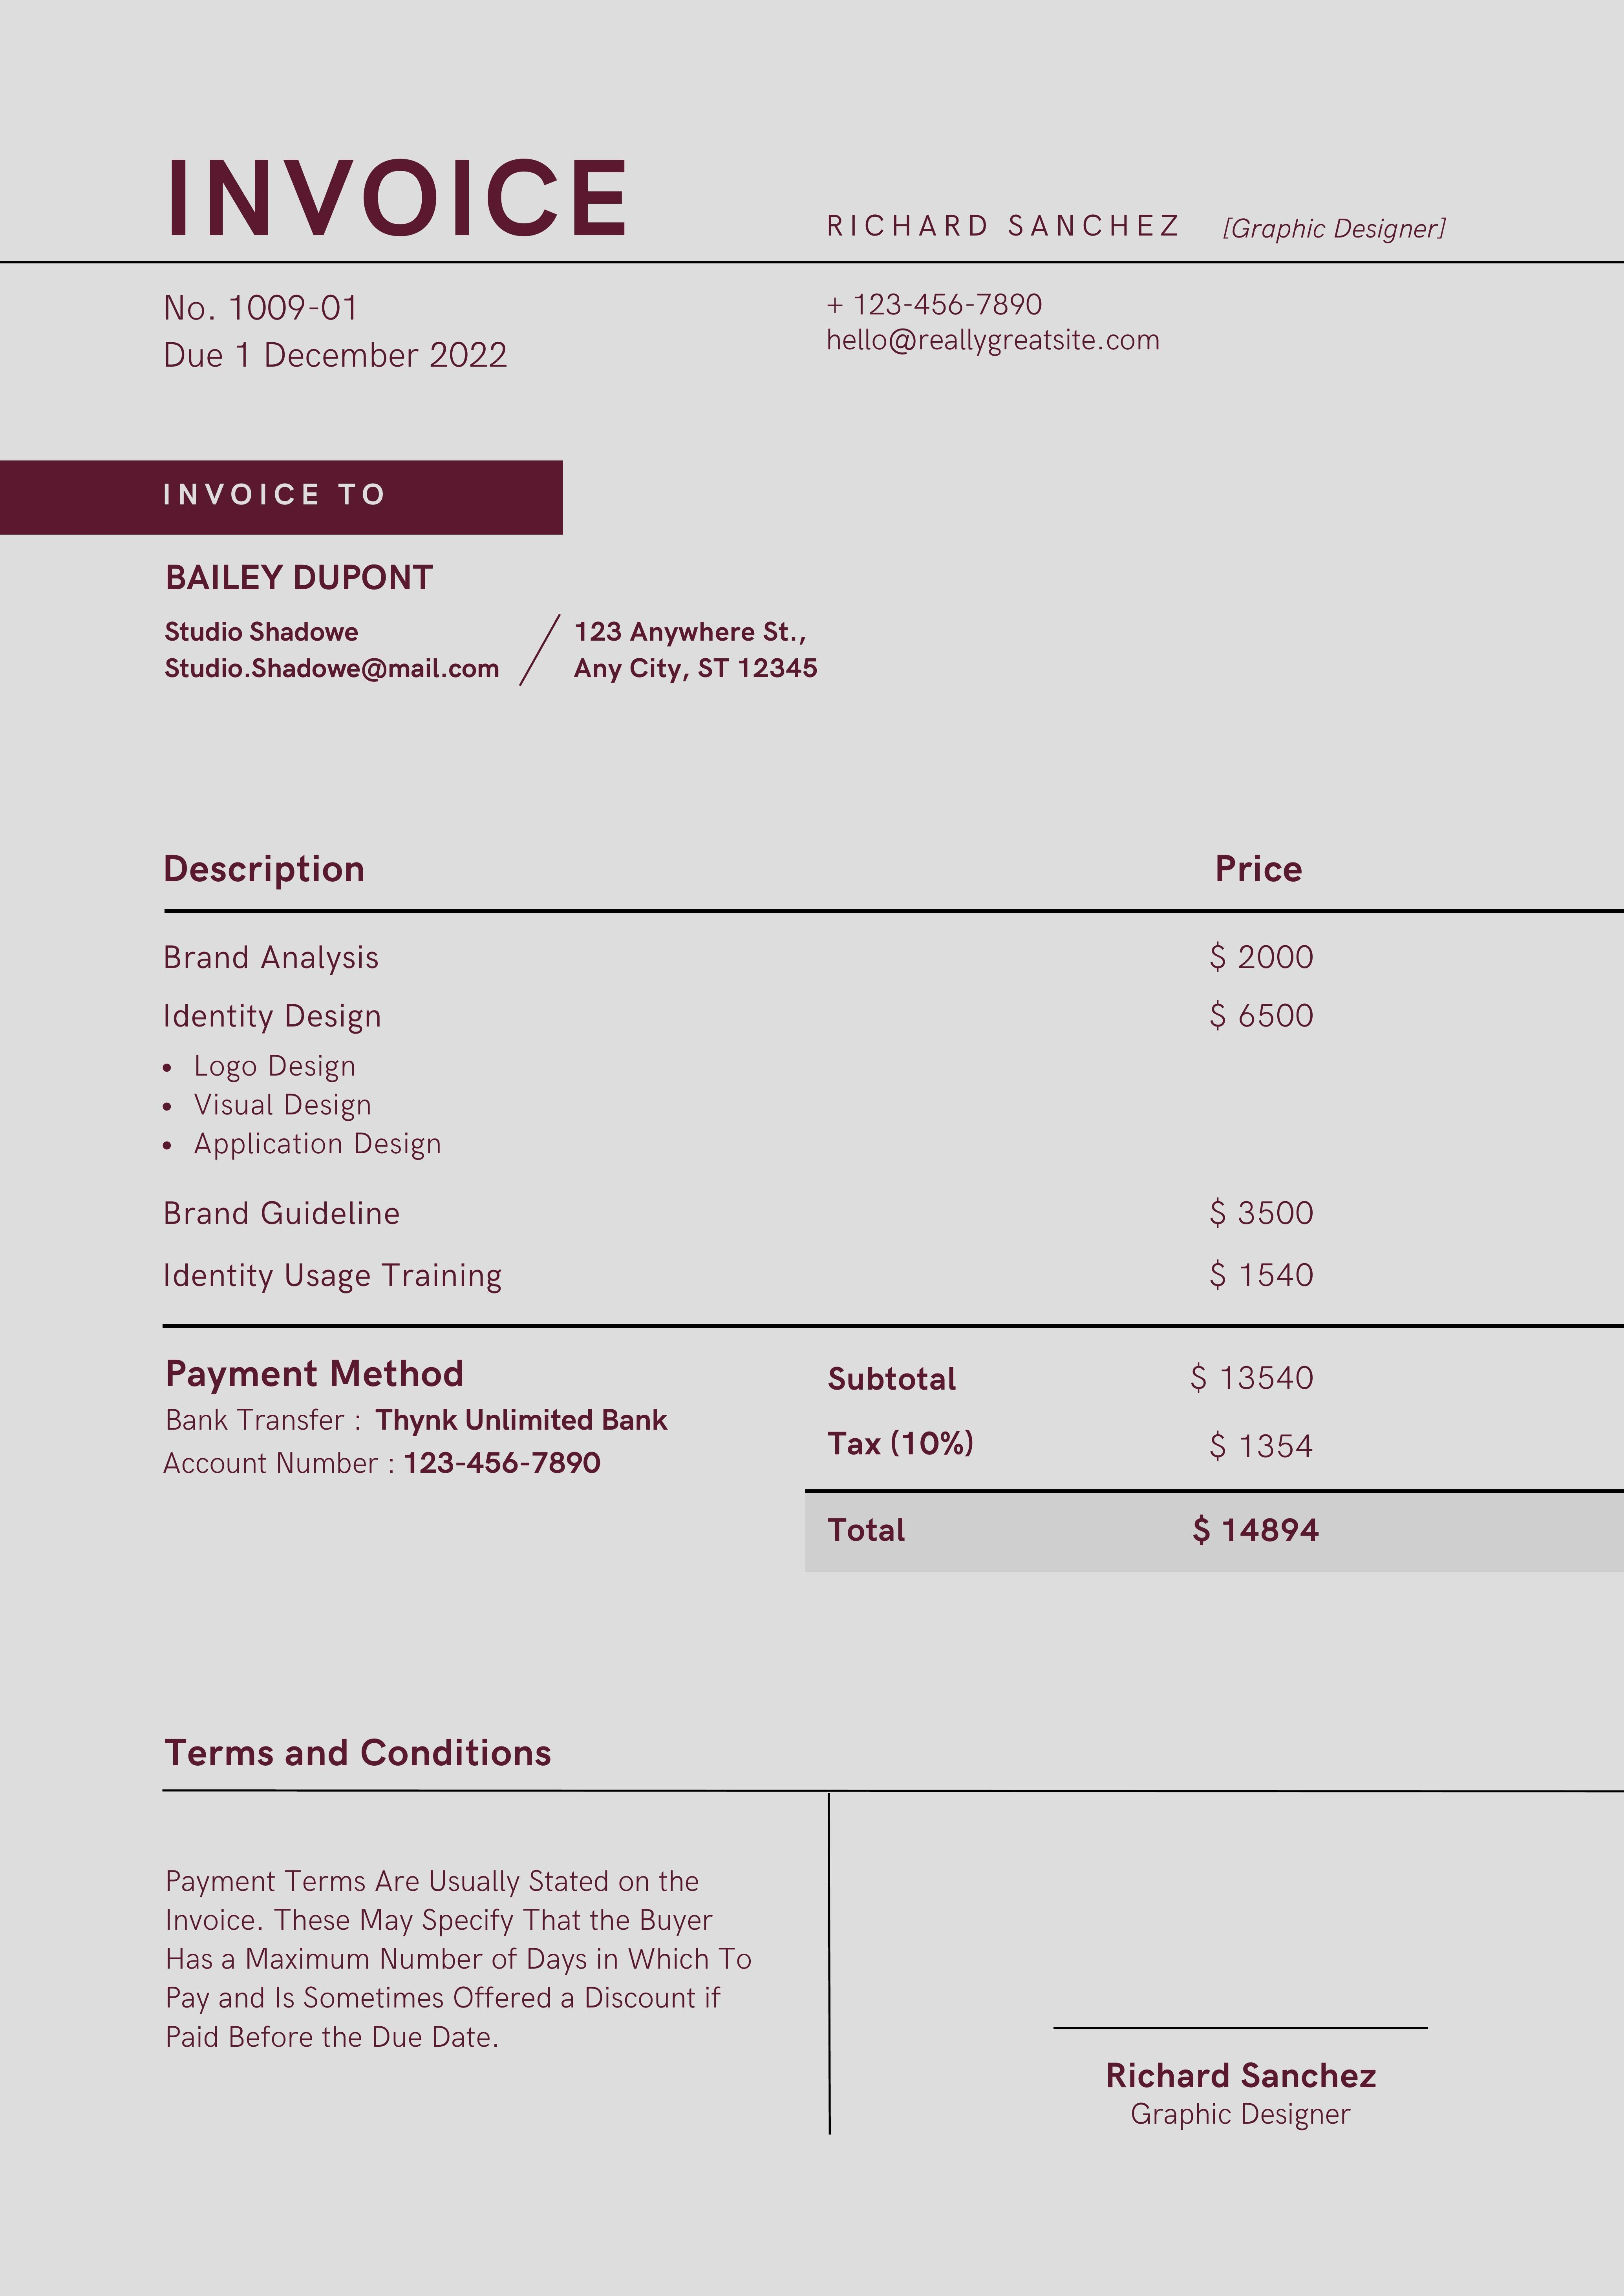ROI: (158, 856, 1320, 1305), (155, 462, 858, 706), (819, 1358, 1334, 1572), (151, 1354, 685, 1497), (155, 283, 555, 385), (808, 191, 1473, 248), (1091, 2047, 1413, 2134)
